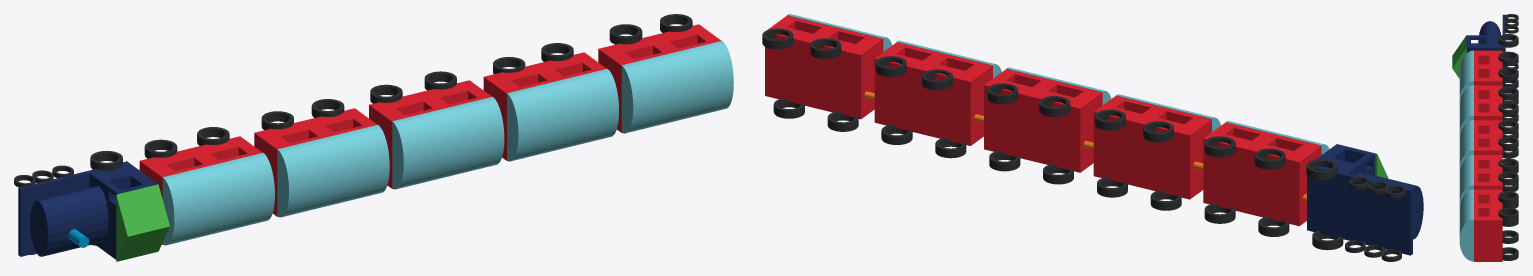
Rendered from tinker.obj.
The picture shows the model from 3 angles, left to right: view 1: azimuth 30°, elevation 25°; view 2: azimuth 150°, elevation 25°; view 3: azimuth 270°, elevation 25°; orthographic projection. The views are drawn at different scales.
Visible parts, largest first — view 1: group_0_7720667, group_0_15277357, group_0_1650274, group_0_2829873, group_0_4634441; view 2: group_0_15277357, group_0_2829873, group_0_1650274, group_0_7720667; view 3: group_0_15277357, group_0_2829873, group_0_7720667, group_0_1650274, group_0_4634441.
Part boxes in pixels (x1=…): group_0_7720667: x1=162, y1=41, x2=733, y2=245; group_0_15277357: x1=139, y1=24, x2=721, y2=244; group_0_1650274: x1=18, y1=161, x2=157, y2=259; group_0_2829873: x1=14, y1=14, x2=692, y2=254; group_0_4634441: x1=116, y1=184, x2=169, y2=261; group_0_15277357: x1=765, y1=15, x2=1321, y2=226; group_0_2829873: x1=762, y1=28, x2=1405, y2=261; group_0_1650274: x1=1307, y1=144, x2=1423, y2=255; group_0_7720667: x1=787, y1=14, x2=1329, y2=154; group_0_15277357: x1=1474, y1=50, x2=1502, y2=261; group_0_2829873: x1=1498, y1=14, x2=1518, y2=260; group_0_7720667: x1=1459, y1=50, x2=1473, y2=261; group_0_1650274: x1=1466, y1=14, x2=1505, y2=87; group_0_4634441: x1=1452, y1=35, x2=1466, y2=78.
Bounding box in the file's own units: 337 × 38 × 46.
